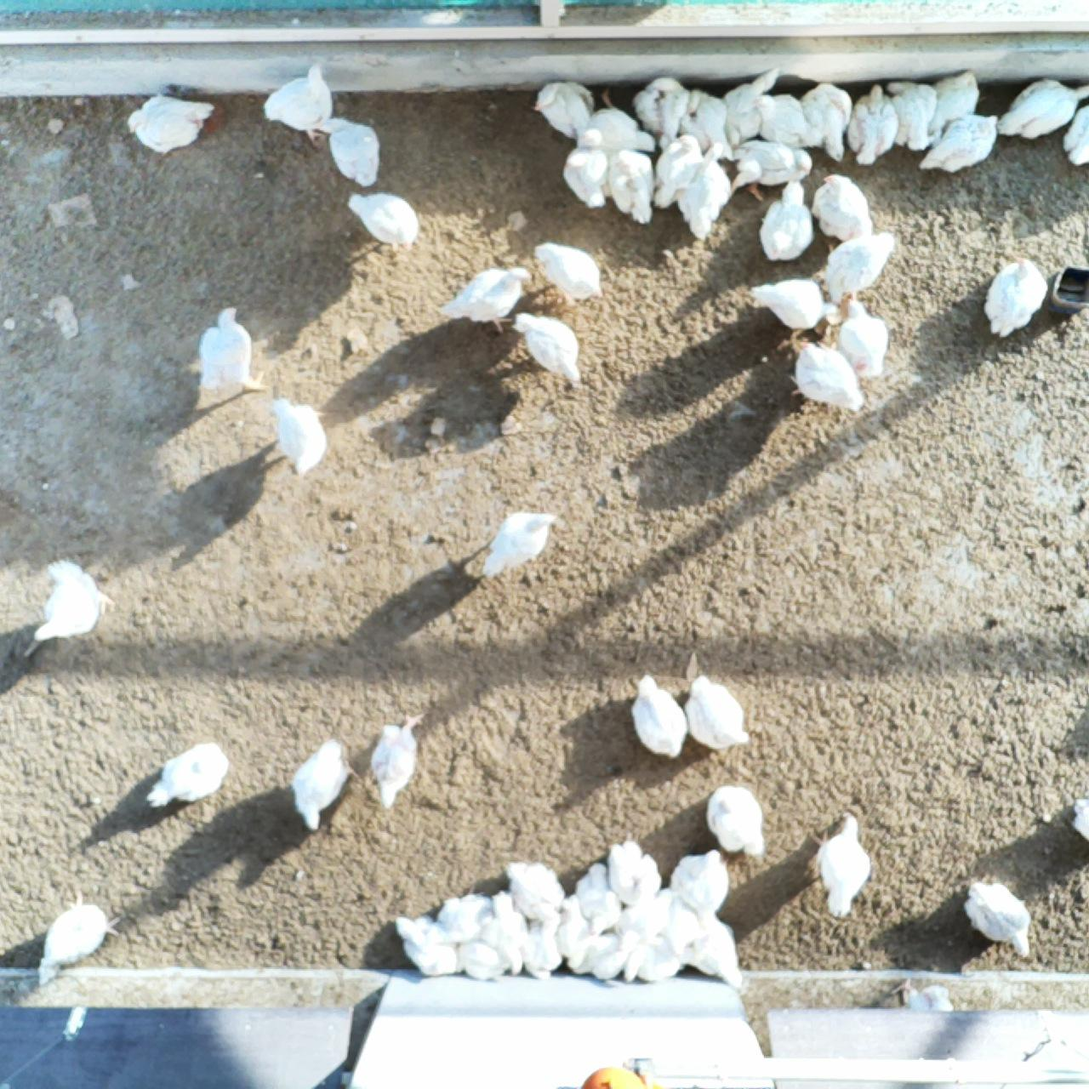chicken: (27, 889, 127, 991), (30, 557, 111, 643), (140, 738, 233, 812), (195, 302, 268, 395), (814, 810, 875, 920), (261, 60, 338, 144), (680, 670, 755, 754), (288, 732, 352, 830), (674, 905, 747, 989), (479, 507, 561, 581), (440, 261, 530, 328), (509, 307, 586, 385), (996, 79, 1089, 143), (270, 392, 337, 479), (982, 253, 1051, 337), (123, 91, 215, 153), (792, 334, 866, 411), (917, 110, 1003, 175), (963, 877, 1031, 959), (675, 149, 733, 240), (748, 274, 842, 330), (840, 79, 899, 168), (753, 178, 813, 265), (737, 134, 815, 200), (833, 295, 890, 385), (369, 713, 423, 807), (582, 91, 659, 156), (722, 71, 783, 151), (705, 783, 769, 859), (393, 910, 462, 980), (630, 669, 686, 755), (826, 230, 894, 300), (535, 240, 606, 306), (801, 77, 854, 163), (922, 69, 985, 141), (534, 79, 601, 145), (881, 77, 938, 154), (342, 192, 424, 245), (502, 855, 565, 922), (319, 118, 381, 185), (481, 892, 529, 977), (674, 844, 732, 914), (516, 897, 566, 978), (811, 172, 868, 243), (430, 889, 498, 947), (562, 128, 610, 210), (607, 146, 656, 226), (634, 72, 684, 149), (609, 880, 676, 937), (755, 94, 823, 150), (615, 882, 676, 942), (655, 134, 701, 211), (605, 836, 658, 902), (574, 861, 619, 936), (676, 87, 727, 153), (566, 930, 633, 979), (556, 890, 594, 966), (633, 938, 688, 987), (453, 931, 507, 978), (896, 977, 956, 1016), (1065, 103, 1089, 168), (1070, 795, 1089, 843)
